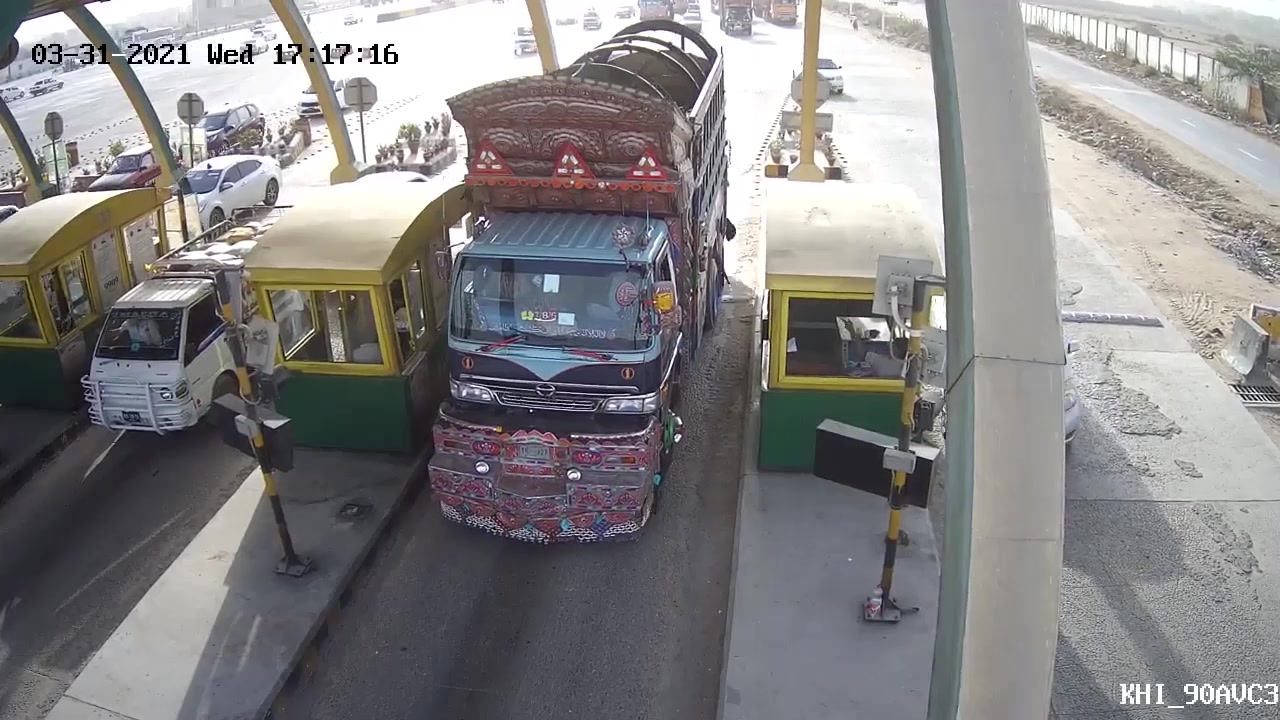F6: (435, 66, 709, 564)
